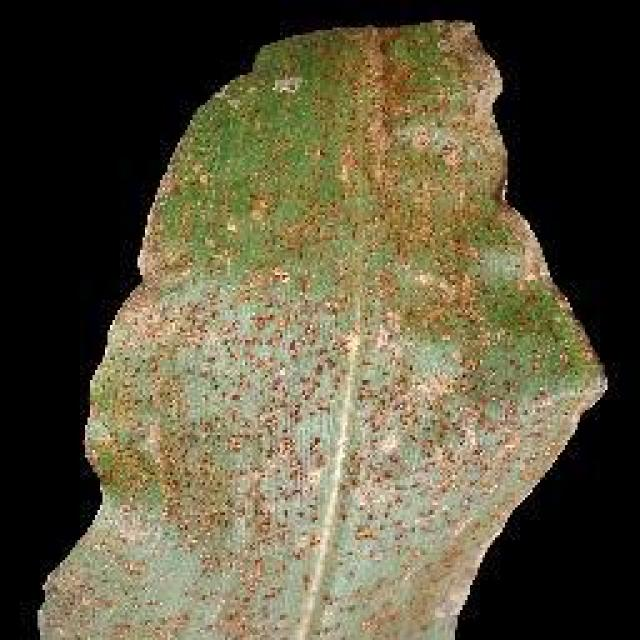Corn Common Rust: (188, 54, 545, 578)
